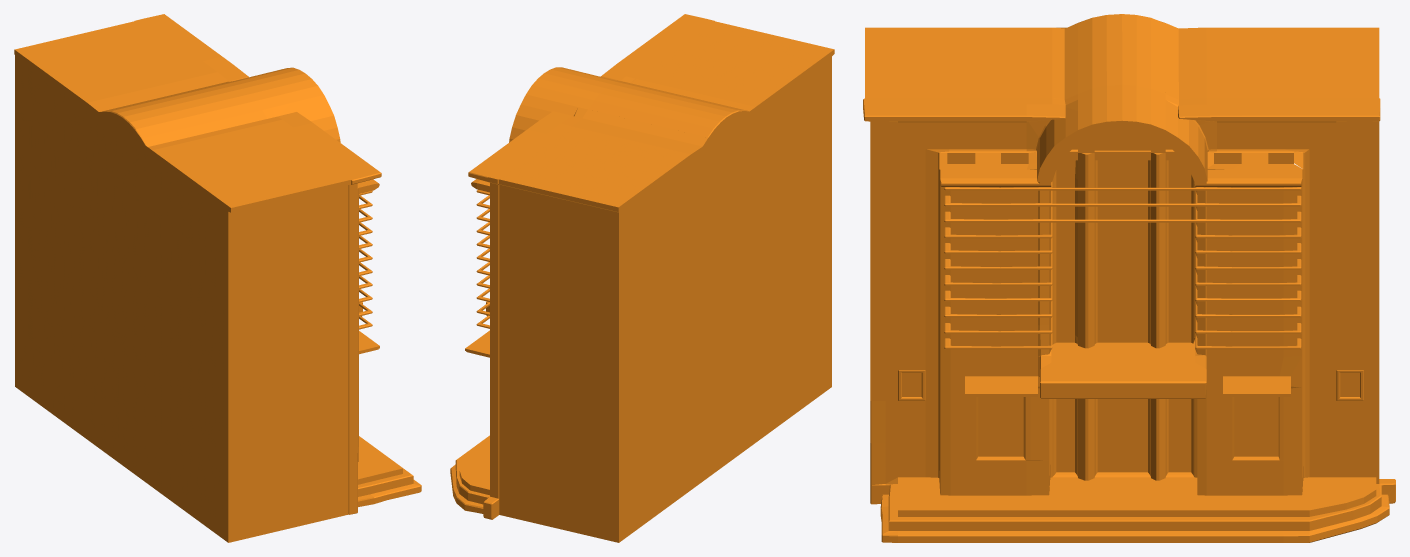
Rendered from park_entrance.glb.
The picture shows the model from 3 angles, left to right: view 1: azimuth 30°, elevation 25°; view 2: azimuth 150°, elevation 25°; view 3: azimuth 270°, elevation 25°; orthographic projection. The views are drawn at different scales.
Parts seen in each view (by area): view 1: park_entrance; view 2: park_entrance; view 3: park_entrance.
Boxes of the visible parts, bbox=[...] form: park_entrance: bbox=[14, 14, 421, 542]; park_entrance: bbox=[450, 14, 834, 542]; park_entrance: bbox=[863, 14, 1395, 542].
Size of the model in its own units: 0.2328 by 0.3782 by 0.4389.
